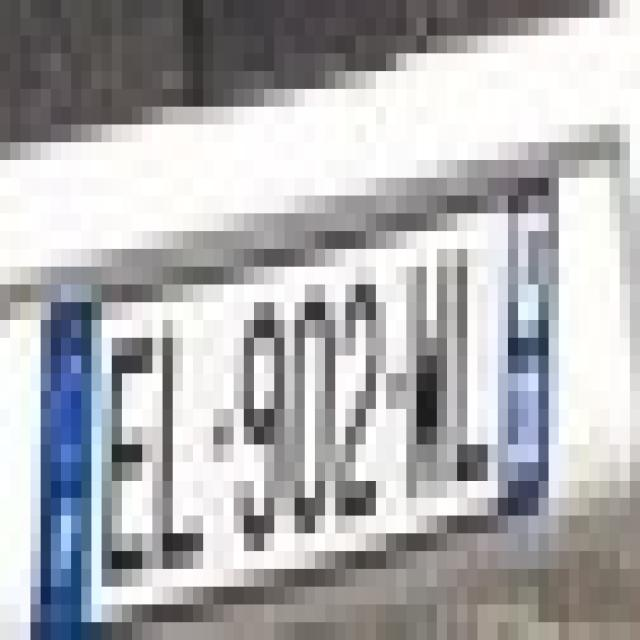Autre: (1, 129, 630, 622)
